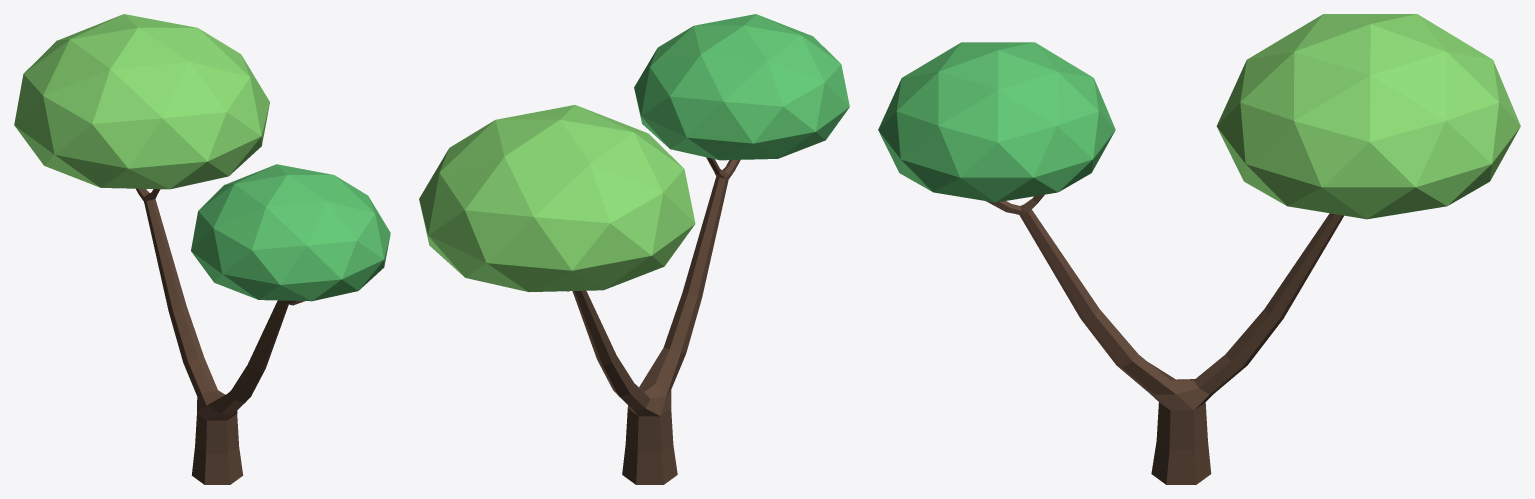
The model's file is Tree_Type1_7.fbx.
The picture shows the model from 3 angles, left to right: view 1: azimuth 30°, elevation 25°; view 2: azimuth 150°, elevation 25°; view 3: azimuth 270°, elevation 25°; orthographic projection. The views are drawn at different scales.
Parts seen in each view (by area): view 1: Tree_Type1_7; view 2: Tree_Type1_7; view 3: Tree_Type1_7.
Part boxes in pixels (x1=…): Tree_Type1_7: x1=14, y1=14, x2=390, y2=484; Tree_Type1_7: x1=419, y1=14, x2=849, y2=484; Tree_Type1_7: x1=878, y1=14, x2=1520, y2=484.
Bounding box in the file's own units: 196 × 337 × 436.
